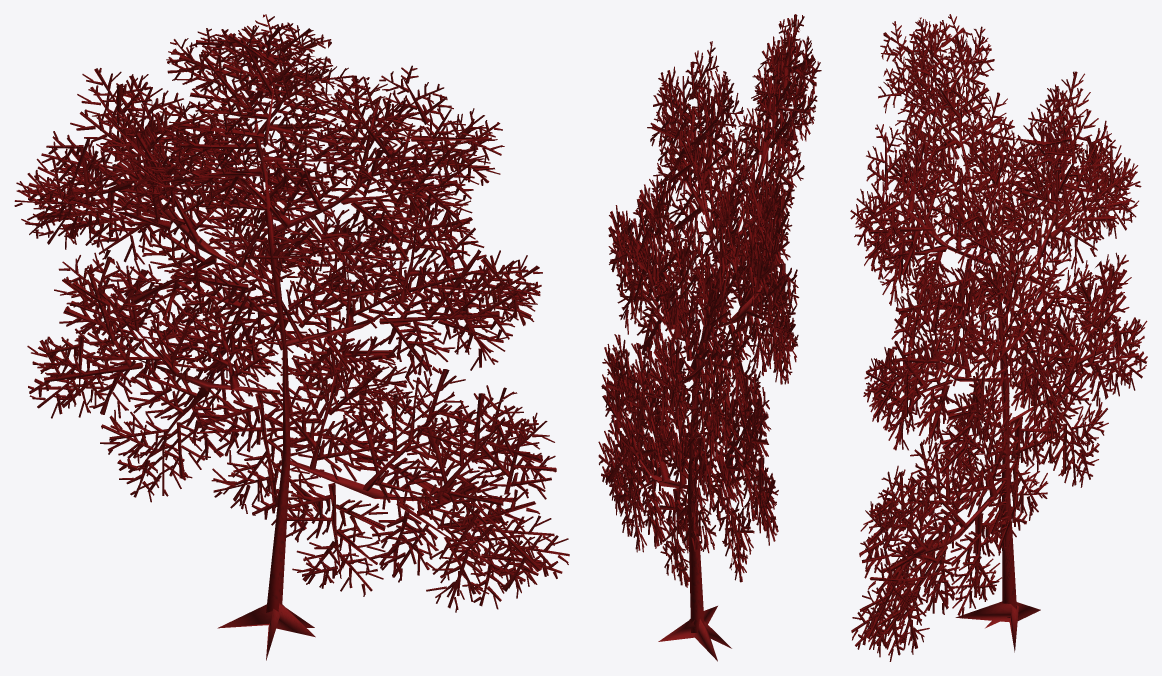
The model's file is giantSeaFan.fbx.
The picture shows the model from 3 angles, left to right: view 1: azimuth 30°, elevation 25°; view 2: azimuth 150°, elevation 25°; view 3: azimuth 270°, elevation 25°; orthographic projection. The views are drawn at different scales.
Parts seen in each view (by area): view 1: RS04v01.001; view 2: RS04v01.001; view 3: RS04v01.001.
Part boxes in pixels (bbox=[...]): RS04v01.001: bbox=[14, 14, 569, 660]; RS04v01.001: bbox=[598, 14, 821, 661]; RS04v01.001: bbox=[850, 14, 1147, 661].
Size of the model in its own units: 977 by 1639 by 743.
2 materials, 2 textured.
